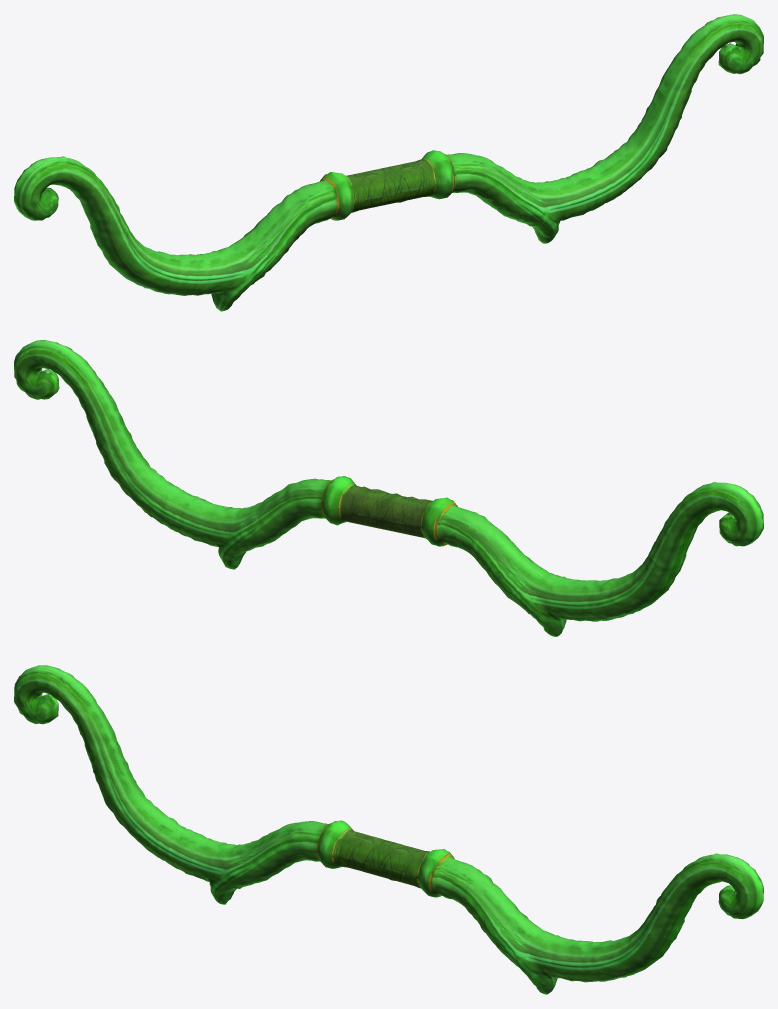
The model's file is Calm.glb.
3 renders of one model, top to bottom at view 1: azimuth 30°, elevation 25°; view 2: azimuth 150°, elevation 25°; view 3: azimuth 330°, elevation 25°, orthographic.
Parts seen in each view (by area): view 1: Mesh_0.003; view 2: Mesh_0.003; view 3: Mesh_0.003.
Part boxes in pixels (box(x1,y1,x2,y2)): Mesh_0.003: box(14, 14, 763, 311); Mesh_0.003: box(14, 340, 763, 636); Mesh_0.003: box(14, 665, 763, 994).
Bounding box in the file's own units: 1.24 × 0.3242 × 0.0786.
Materials: 1 (1 with a texture image).
